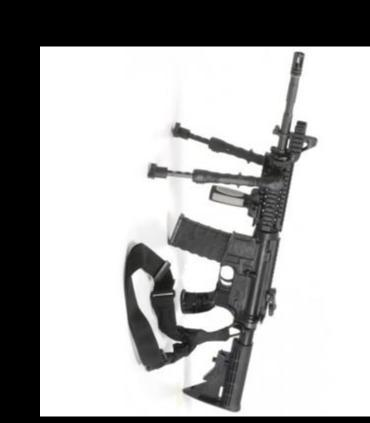larga: (146, 51, 318, 413)
